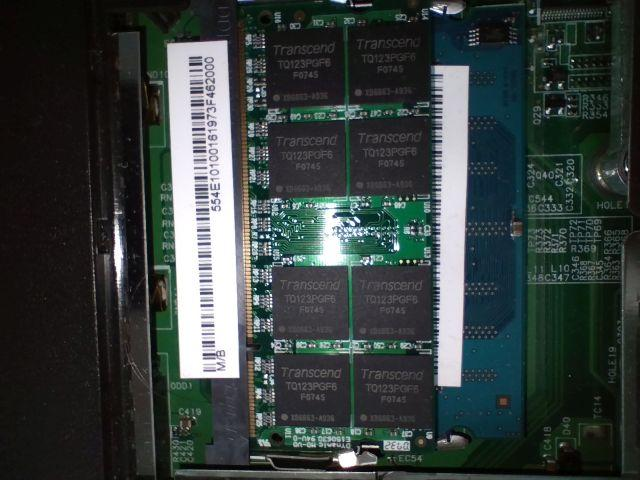capacitor: (316, 14, 342, 31)
